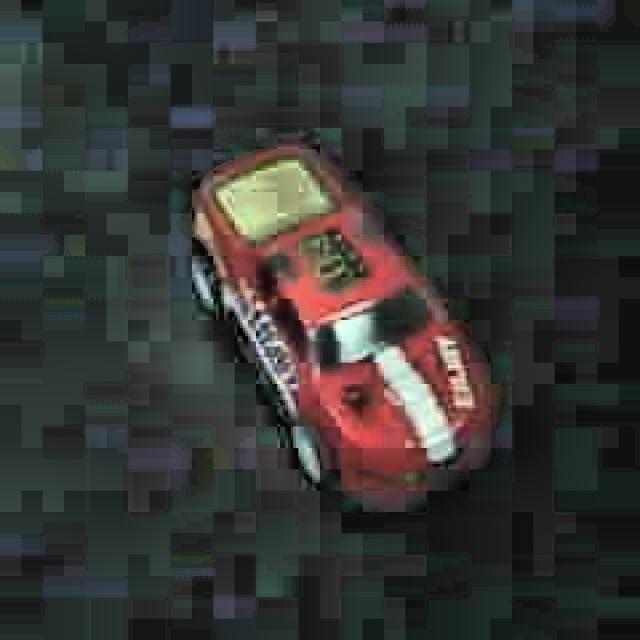car: (184, 136, 496, 509)
